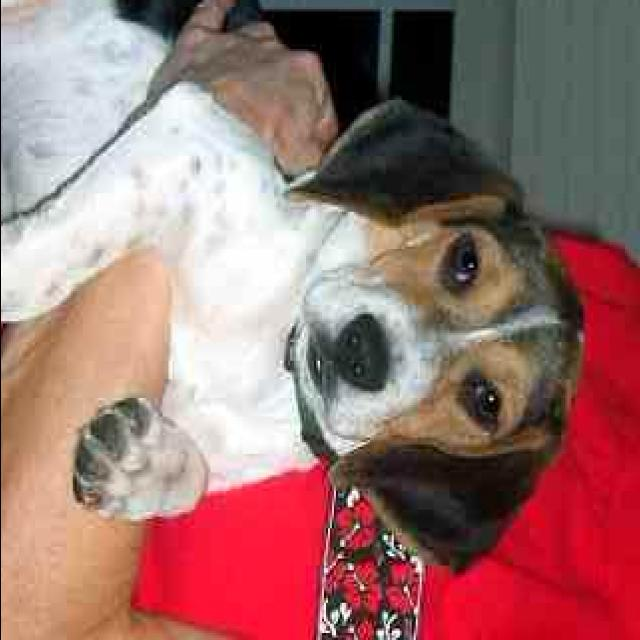beagle: (8, 7, 594, 589)
